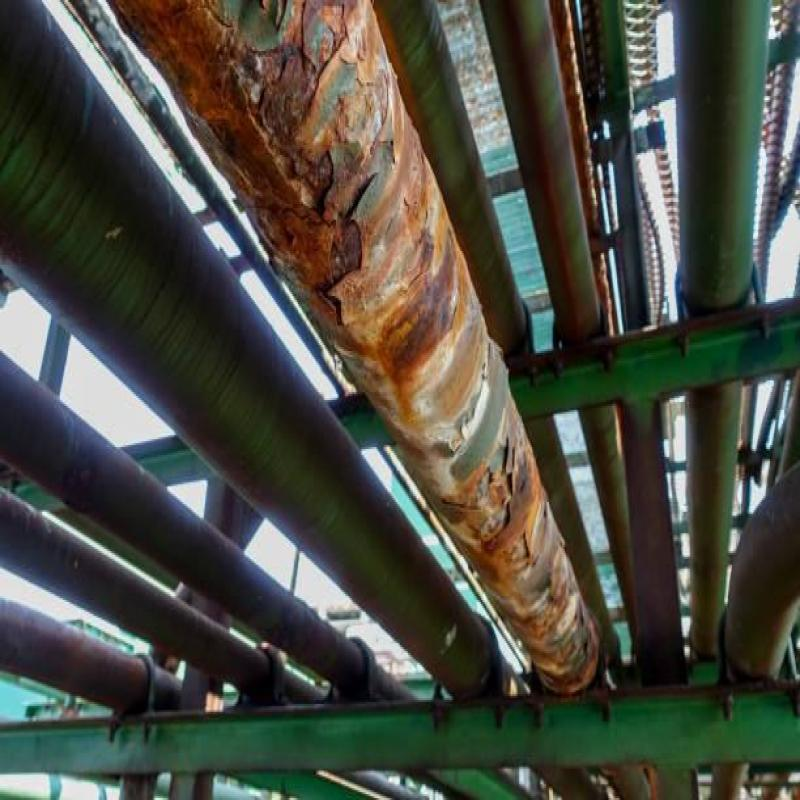corrosion: (159, 18, 597, 601)
